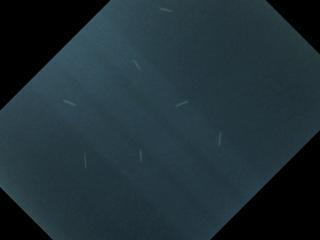scratch: (133, 141, 149, 165), (171, 96, 195, 110), (153, 5, 176, 16), (61, 96, 82, 107), (81, 147, 90, 170), (214, 130, 222, 148), (130, 58, 141, 70)
